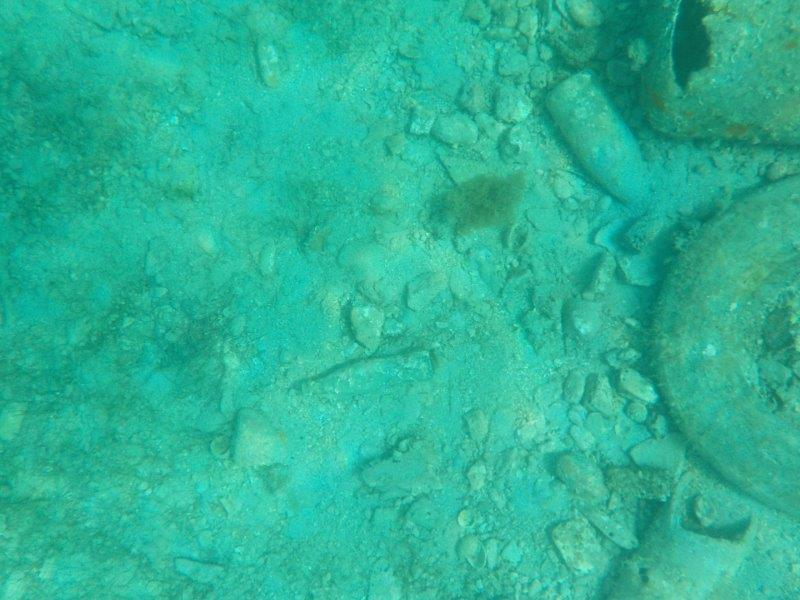bottle: (541, 66, 665, 222), (297, 345, 437, 405)
tire: (649, 163, 800, 521)
